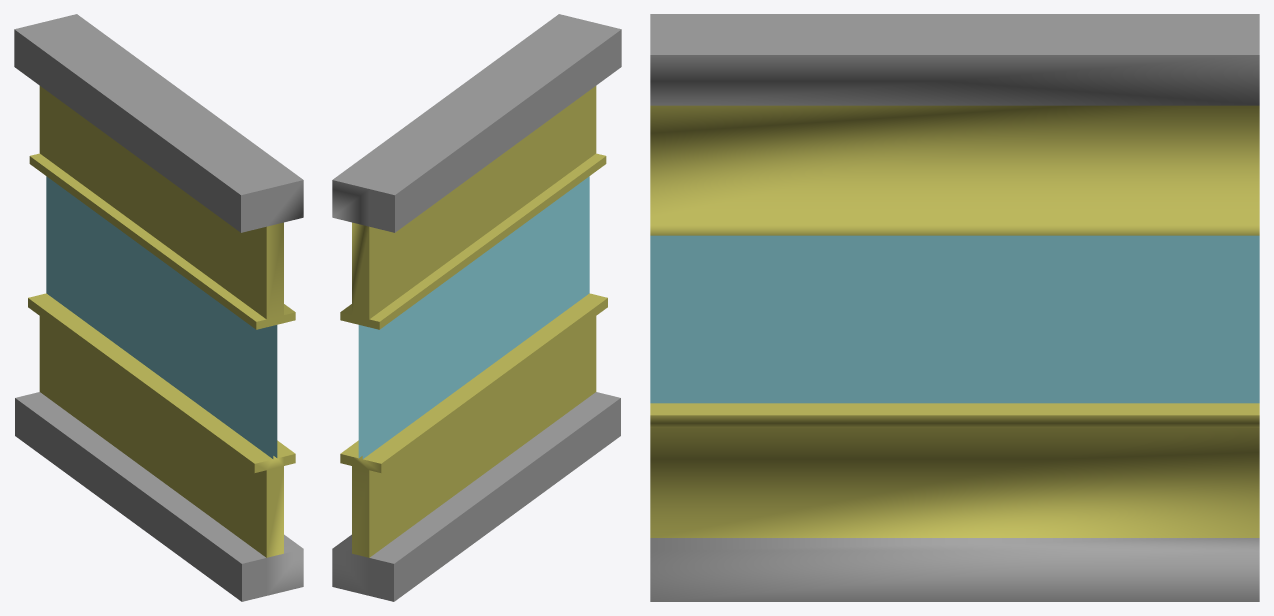
The model's file is _allWindow.fbx.
3 views of the same model, side by side, from view 1: azimuth 30°, elevation 25°; view 2: azimuth 150°, elevation 25°; view 3: azimuth 270°, elevation 25° (orthographic). The views are drawn at different scales.
Visible parts, largest first — view 1: pCube1; view 2: pCube1; view 3: pCube1.
Part boxes in pixels (x1=…): pCube1: x1=14, y1=14, x2=303, y2=601; pCube1: x1=332, y1=14, x2=621, y2=601; pCube1: x1=650, y1=14, x2=1259, y2=601.
Size of the model in its own units: 94.57 by 587 by 593.
